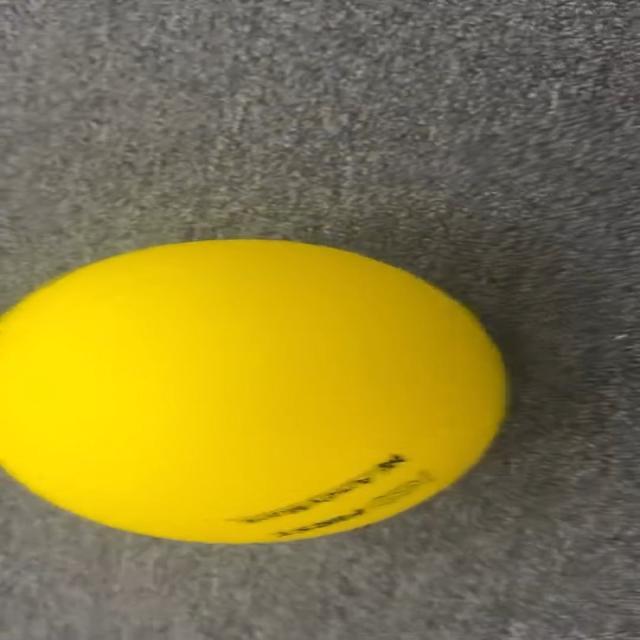Fuels: (4, 241, 509, 540)
